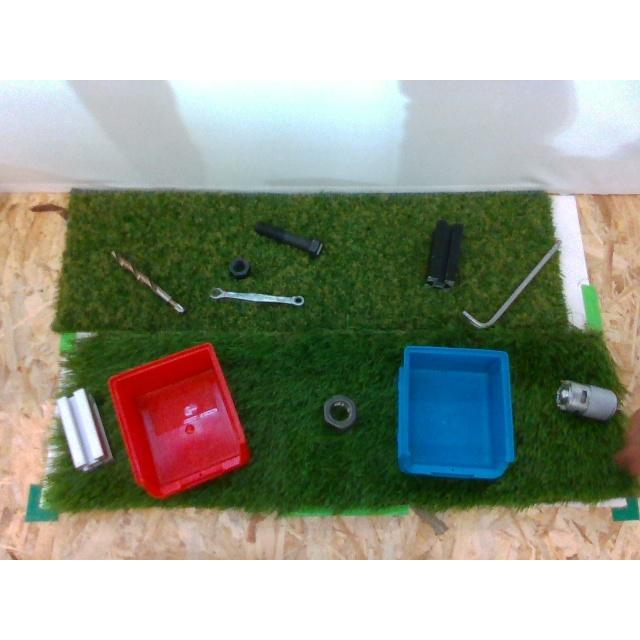AllenKey: (462, 241, 560, 329)
Drill: (110, 250, 184, 314)
M20: (228, 258, 252, 278)
M20_100: (256, 222, 324, 258)
M30: (323, 395, 357, 431)
Motor2: (556, 380, 616, 420)
S40_40_B: (426, 220, 462, 290)
S40_40_G: (56, 390, 112, 470)
Wrench: (210, 288, 304, 308)
container_box_blue: (398, 346, 514, 480)
container_box_red: (108, 342, 250, 498)
